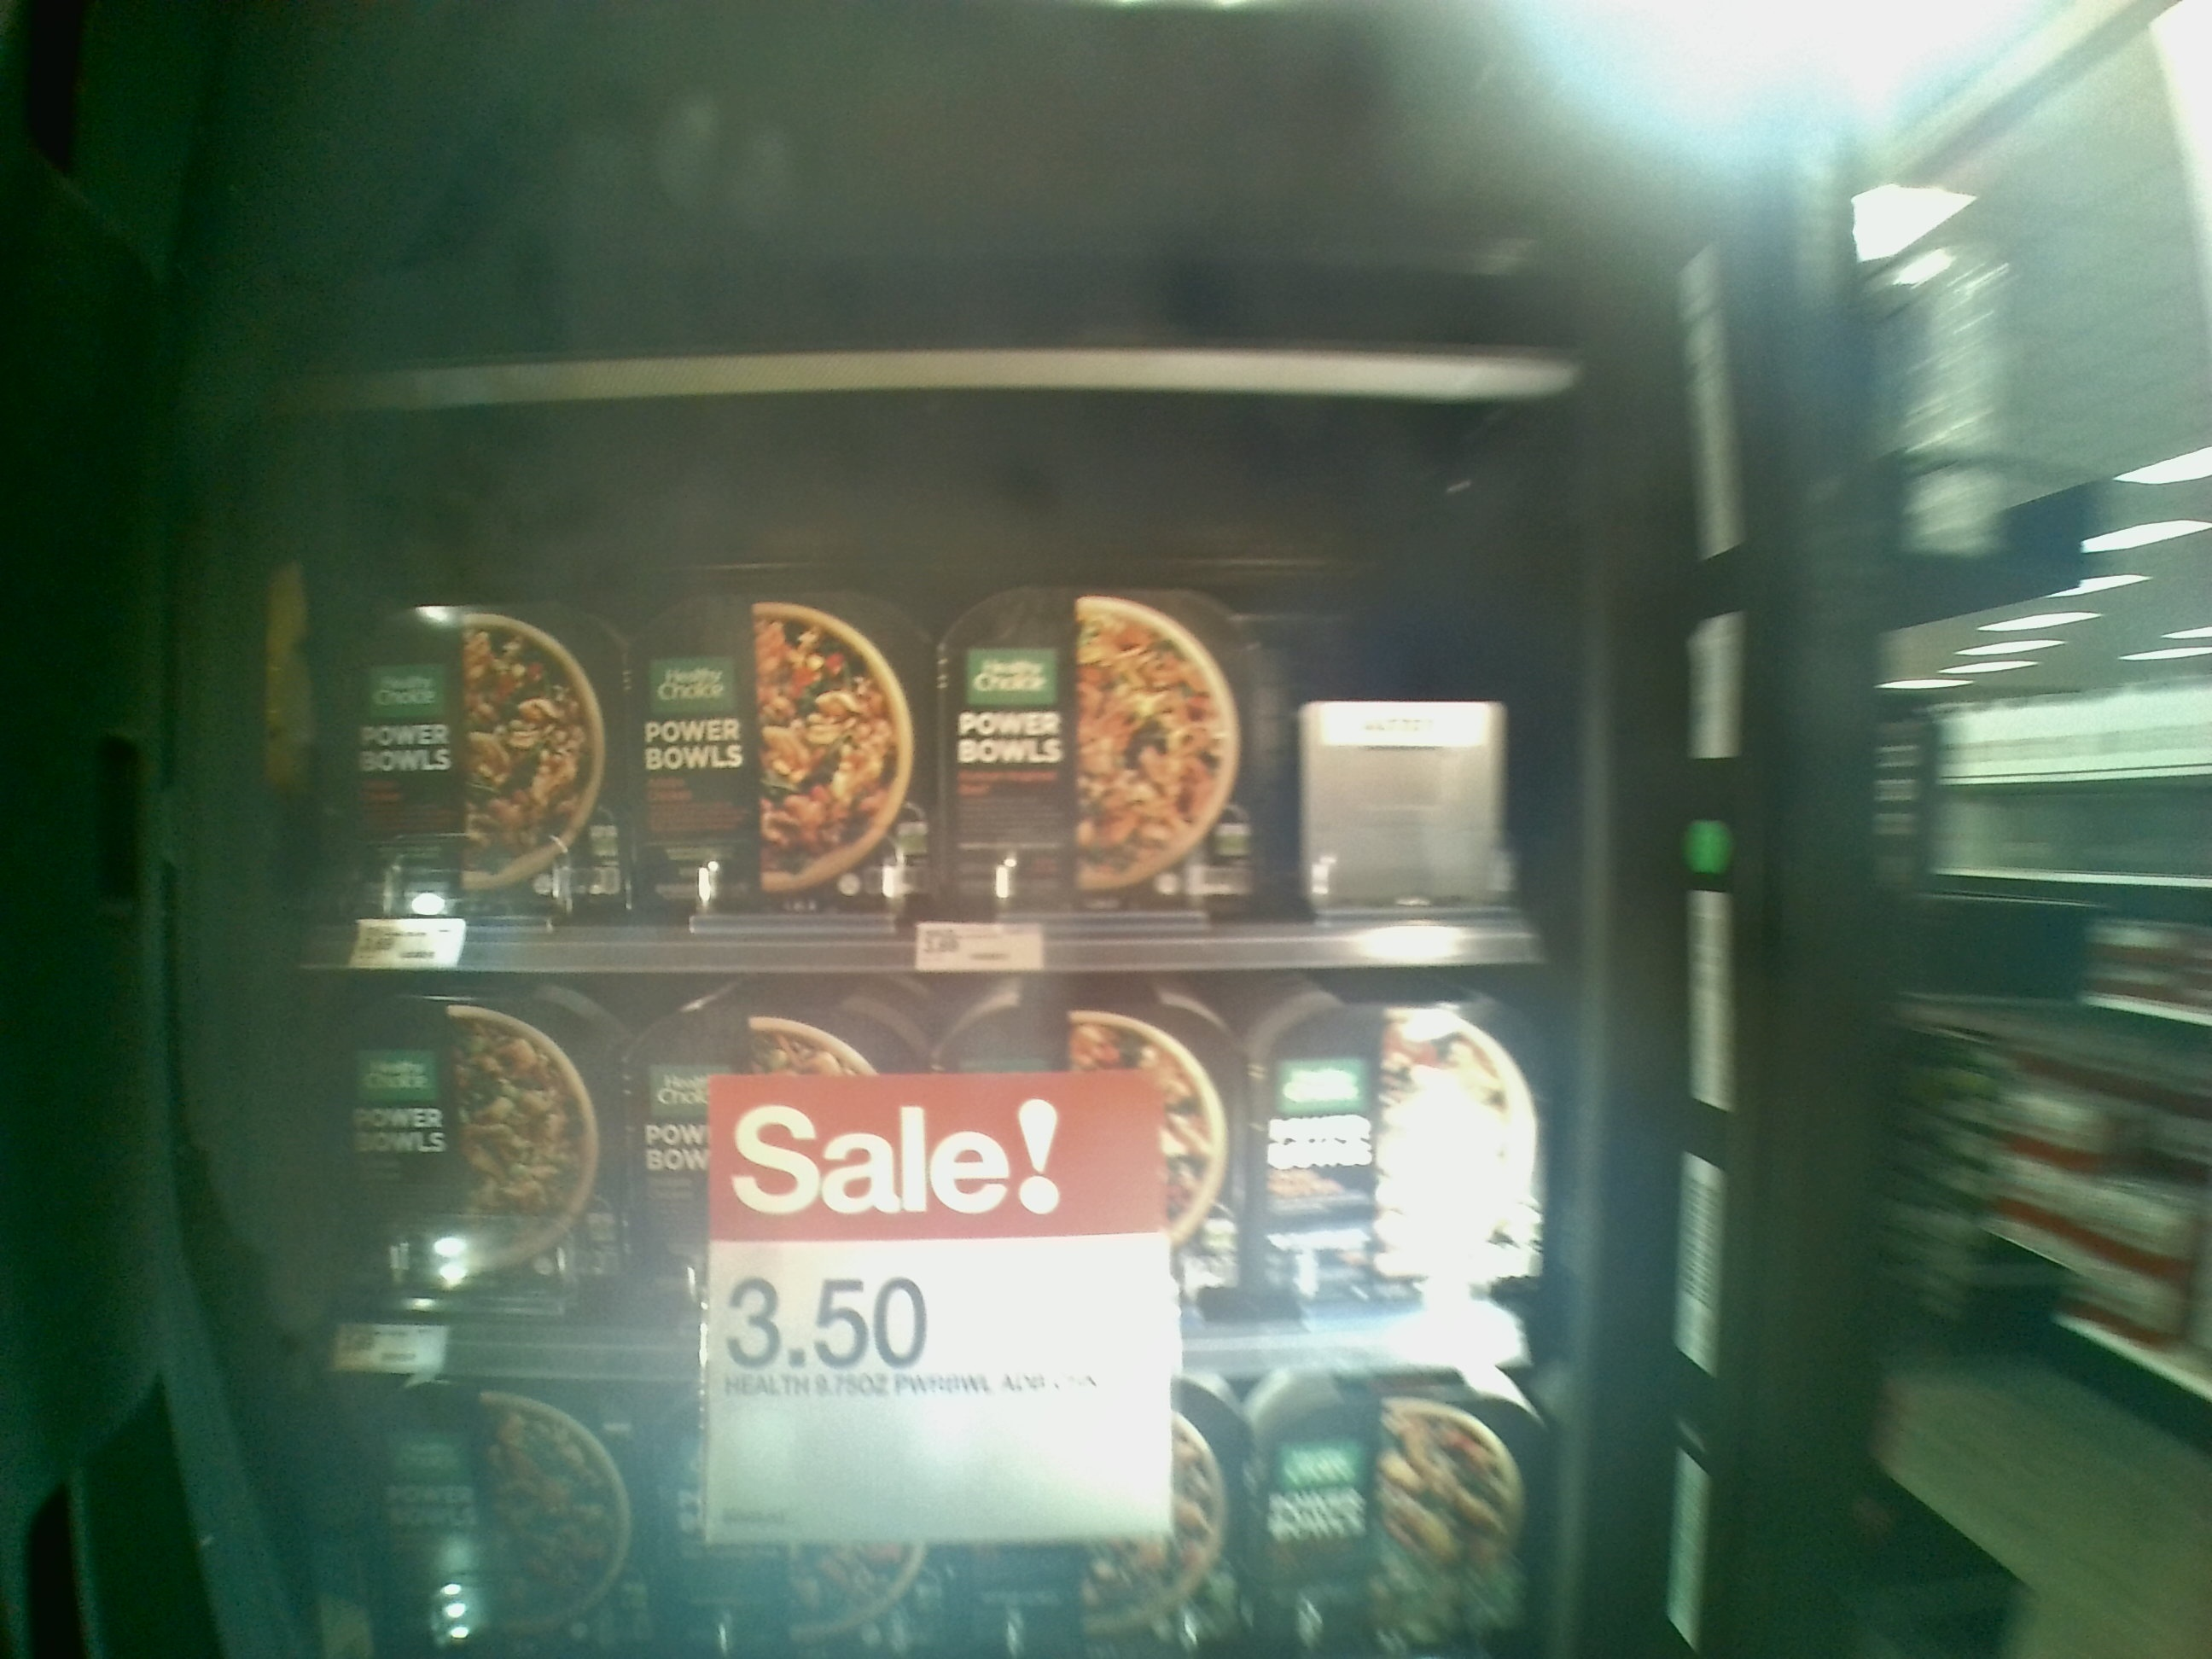shelf: (280, 369, 1555, 990)
